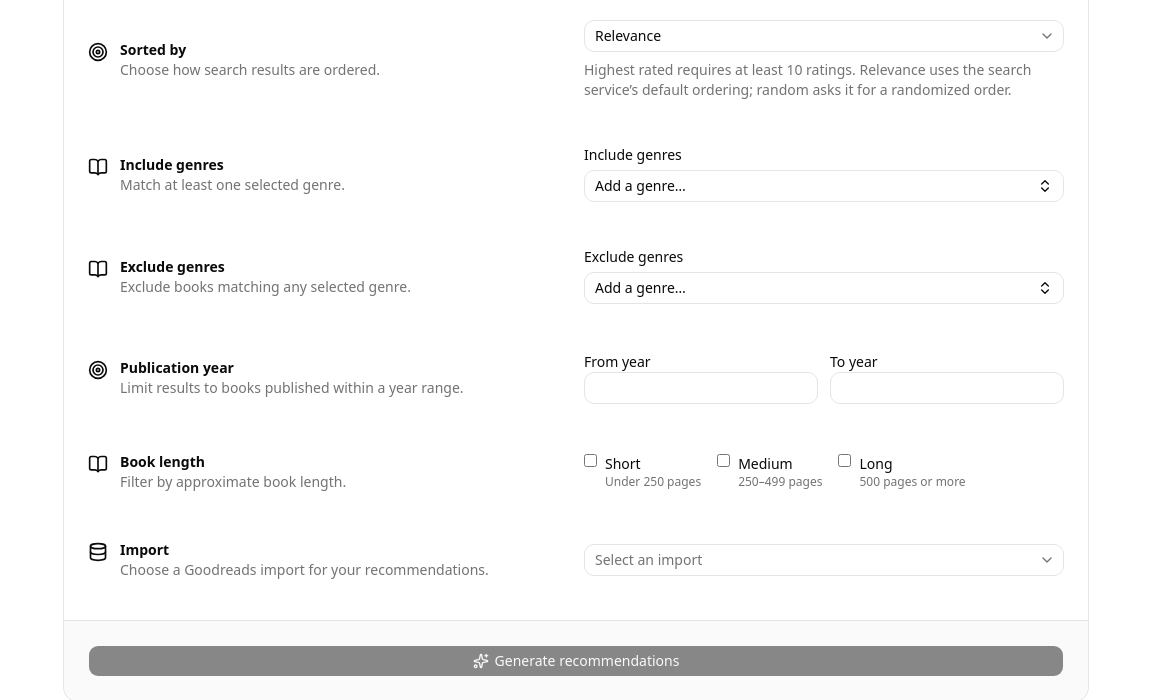
Test: Recommendation controls › shows a visible error and stays put on HTTP failure
The image size is (1164, 700).
What coordinates should you click on to do the following:
click the dropdown labelled "import"
I would click on:
 (649, 560)
Its box is x1=584 y1=544 x2=1064 y2=576.
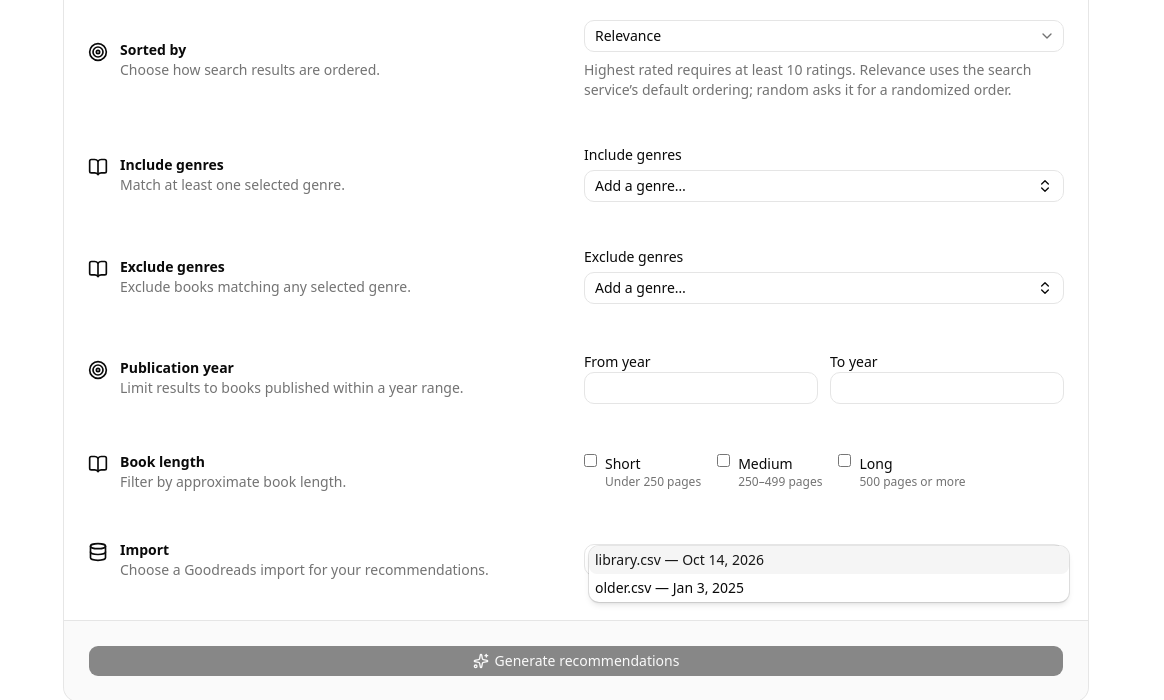
What coordinates should you click on to do the following:
click the option "library.csv — Oct 14, 2026"
I would click on:
 (628, 560)
Its box is x1=589 y1=546 x2=1069 y2=574.
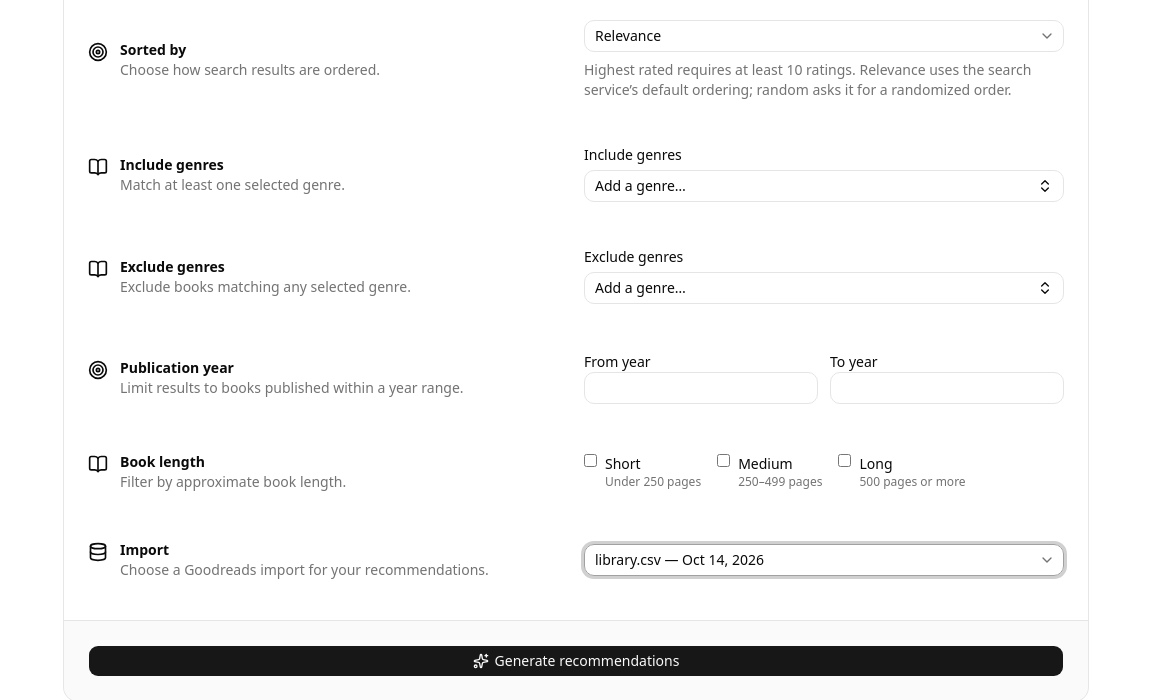
What coordinates should you click on to do the following:
click the button "Generate recommendations"
I would click on:
 (576, 661)
Its box is x1=88 y1=645 x2=1064 y2=677.
(page scrolled)
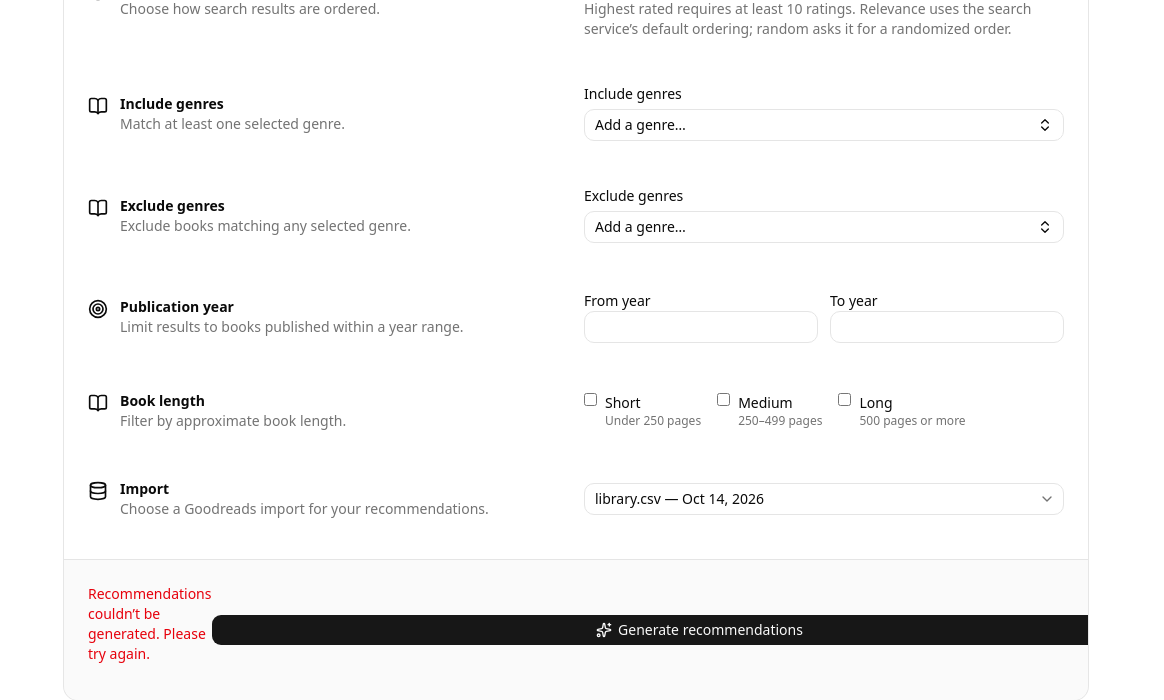
Check: the message shows "couldn’t be generated", box x1=88 y1=584 x2=212 y2=663
